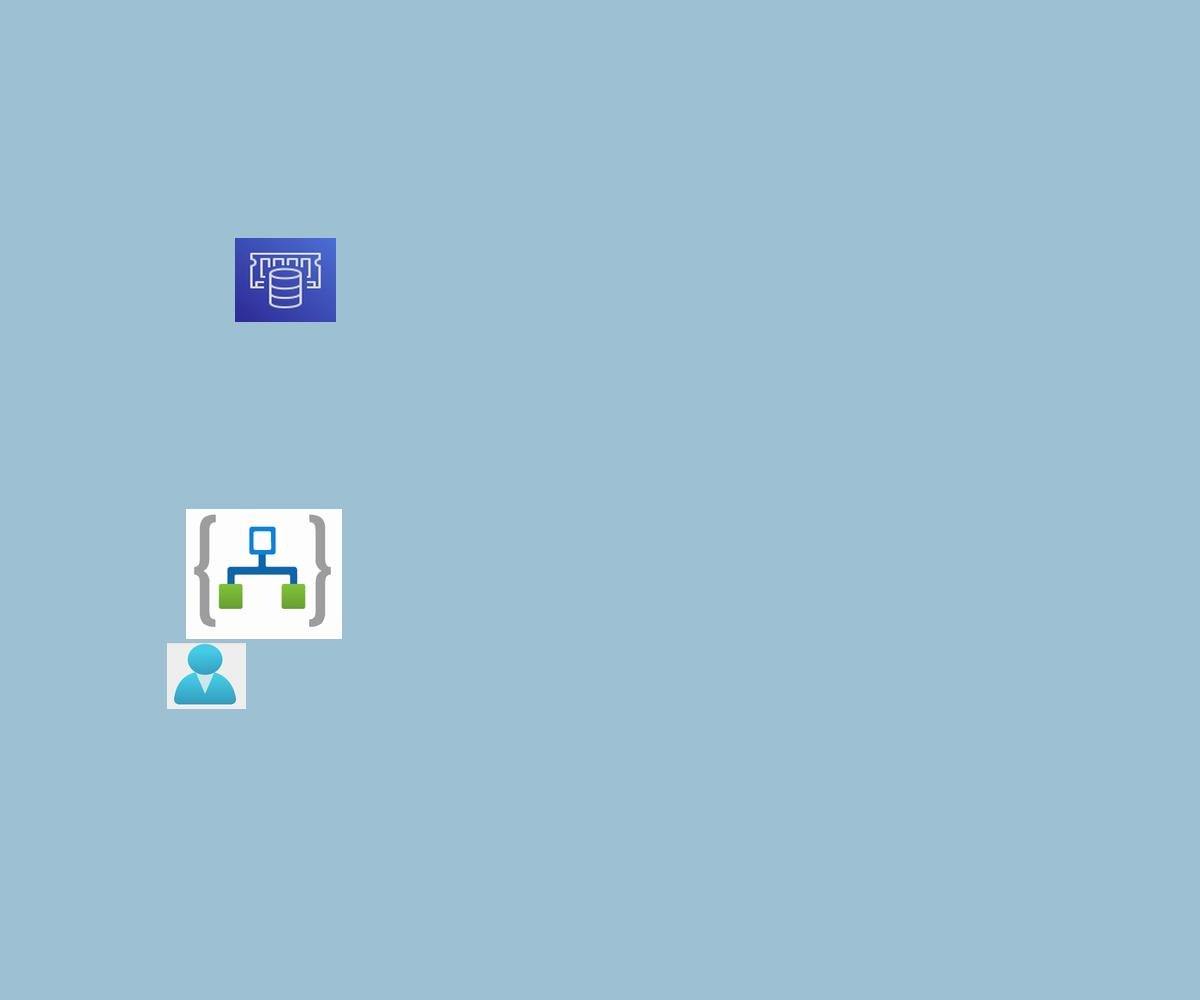AWS-ElastiCache: (235, 238, 336, 322)
Azure_integration-204-Logic-Apps: (186, 509, 342, 639)
Azure_users: (167, 643, 246, 709)
